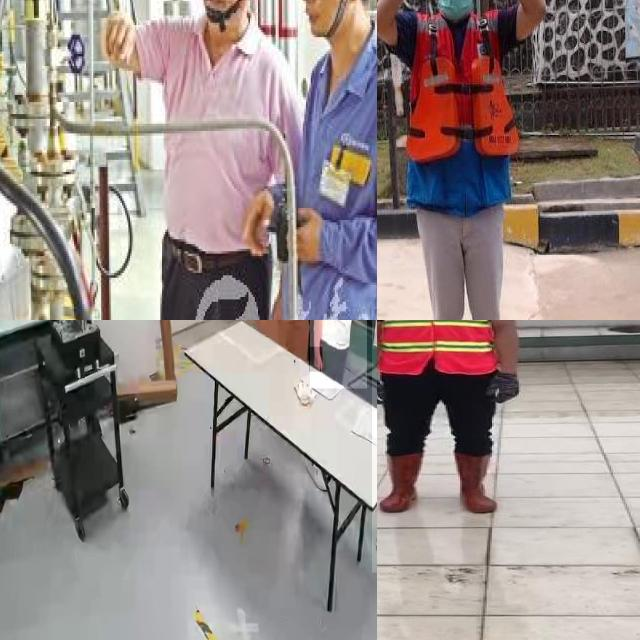No_Ear-Protection: (294, 0, 377, 43), (197, 0, 260, 31)
boots: (451, 449, 499, 514), (377, 452, 426, 513)
hand_noglove: (309, 347, 323, 372)
person: (377, 0, 558, 320), (377, 320, 530, 517), (310, 320, 367, 389)
vest: (403, 9, 516, 204), (377, 320, 501, 377)
